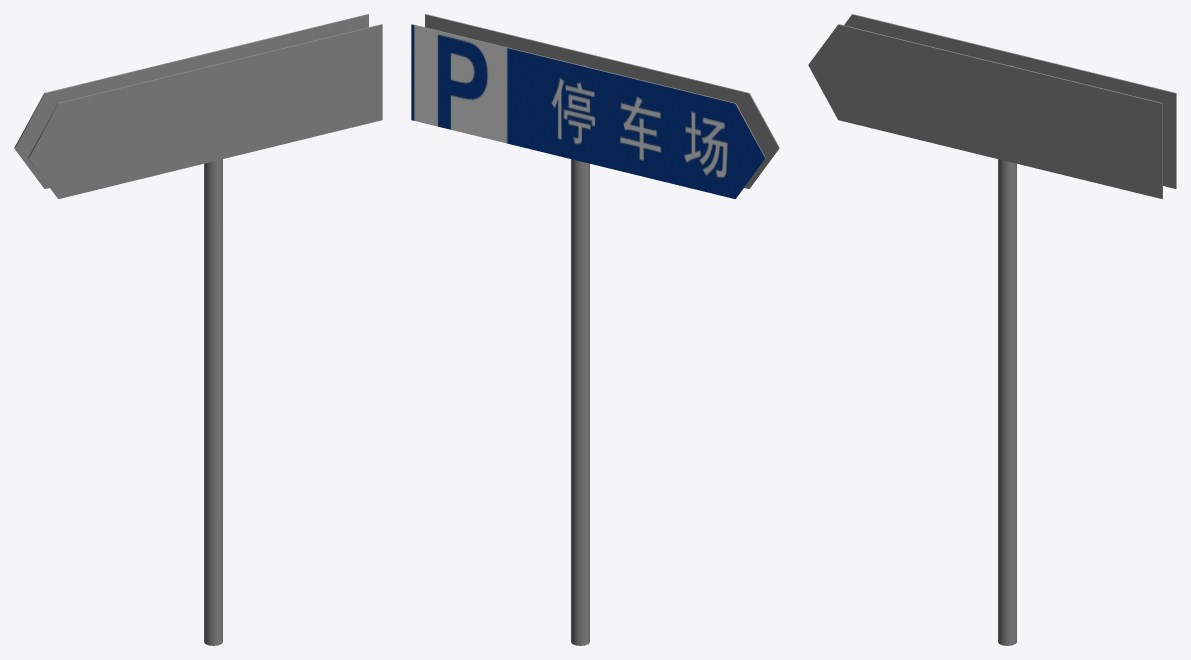
Rendered from ParkPlane.FBX.
The picture shows the model from 3 angles, left to right: view 1: azimuth 30°, elevation 25°; view 2: azimuth 150°, elevation 25°; view 3: azimuth 330°, elevation 25°; orthographic projection.
Visible parts, largest first — view 1: 交通设施072ok; view 2: 交通设施072ok; view 3: 交通设施072ok.
Boxes of the visible parts, x1,y1,x2,y2 form: 交通设施072ok: (14,14,382,645); 交通设施072ok: (411,14,779,645); 交通设施072ok: (808,14,1176,645).
Size of the model in its own units: 170 by 267 by 12.05.
Materials: 2 (1 with a texture image).
